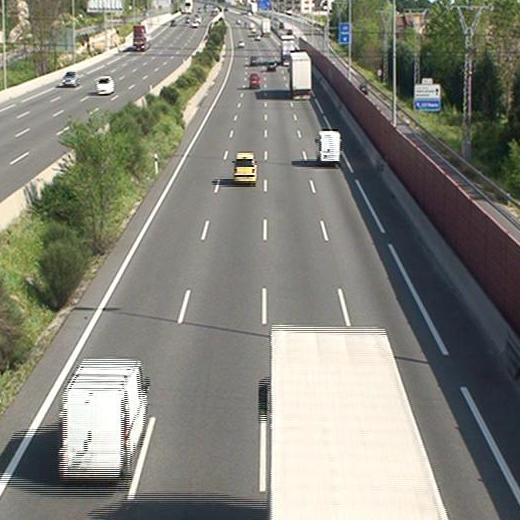car: (234, 153, 257, 183), (266, 62, 276, 69), (250, 55, 257, 64)
truck: (290, 53, 312, 99), (281, 35, 295, 63)
van: (60, 360, 148, 477), (319, 132, 340, 166), (249, 73, 259, 88)
